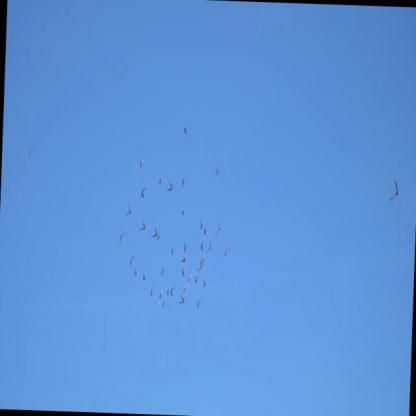bird: (388, 177, 401, 203), (196, 253, 206, 271), (124, 203, 134, 216), (206, 238, 214, 254), (165, 180, 174, 193), (157, 287, 163, 306), (139, 185, 146, 201), (186, 272, 192, 290), (215, 220, 222, 235), (119, 231, 126, 246), (196, 296, 203, 311), (198, 215, 204, 232), (223, 245, 231, 257), (215, 165, 220, 184), (139, 219, 146, 232), (194, 272, 201, 285), (151, 226, 157, 241), (169, 284, 175, 299), (179, 290, 185, 305), (181, 172, 186, 188), (156, 229, 161, 245), (181, 265, 187, 278), (181, 123, 188, 134), (128, 255, 135, 266), (138, 158, 144, 170), (200, 276, 207, 286), (160, 264, 165, 277), (180, 254, 187, 263), (180, 206, 185, 218), (203, 223, 208, 235), (150, 285, 155, 297), (167, 285, 171, 299), (157, 176, 162, 187), (182, 240, 187, 251), (133, 266, 138, 277), (141, 272, 146, 282), (200, 240, 204, 252), (170, 244, 174, 255), (161, 301, 166, 309)
